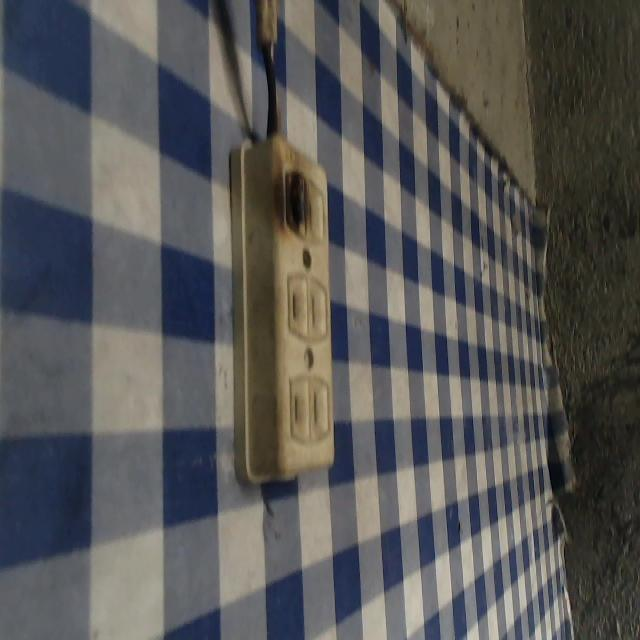-: (278, 156, 315, 245)
